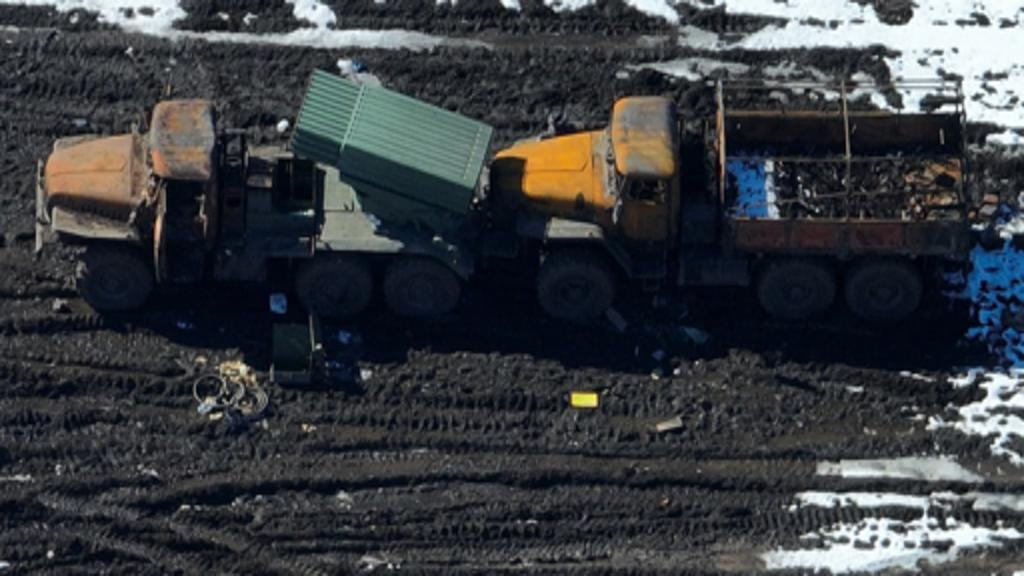MLRS: (28, 65, 486, 318)
TRUCK: (492, 74, 972, 328)
